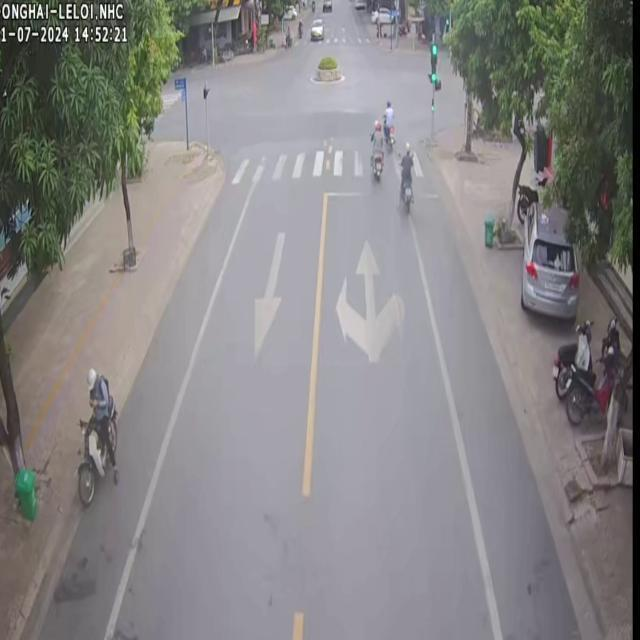car: (519, 200, 577, 317), (308, 16, 323, 38)
green_light: (431, 45, 437, 86)
motobike: (564, 347, 618, 422), (550, 318, 590, 398), (76, 414, 108, 505), (398, 140, 412, 208), (368, 118, 382, 180), (382, 98, 393, 148), (107, 394, 116, 449)
stop_line: (324, 189, 400, 198), (414, 189, 437, 198)
